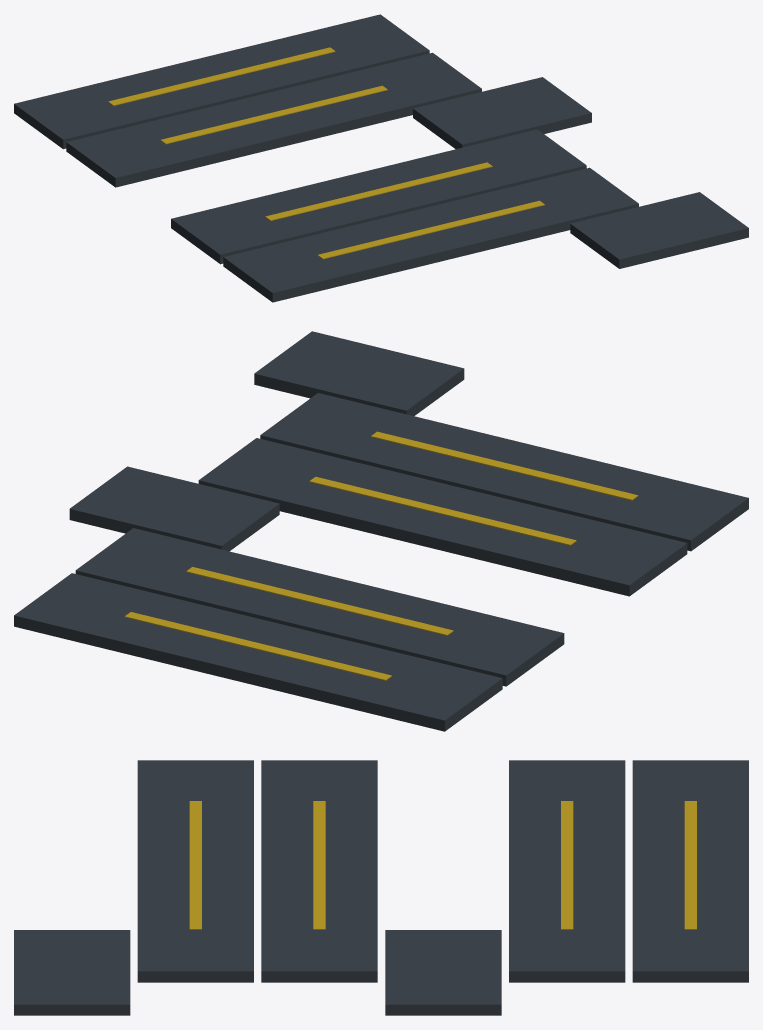
Rendered from bk24_lids.obj.
3 renders of one model, top to bottom at view 1: azimuth 30°, elevation 25°; view 2: azimuth 150°, elevation 25°; view 3: azimuth 270°, elevation 25°, orthographic. The views are drawn at different scales.
Visible parts, largest first — view 1: bk24_lids; view 2: bk24_lids; view 3: bk24_lids.
Boxes of the visible parts, left/top/right/bottom form: bk24_lids: left=14, top=14, right=748, bottom=302; bk24_lids: left=14, top=331, right=748, bottom=731; bk24_lids: left=14, top=760, right=748, bottom=1015.
Size of the model in its own units: 2.34 by 0.054 by 2.97.
